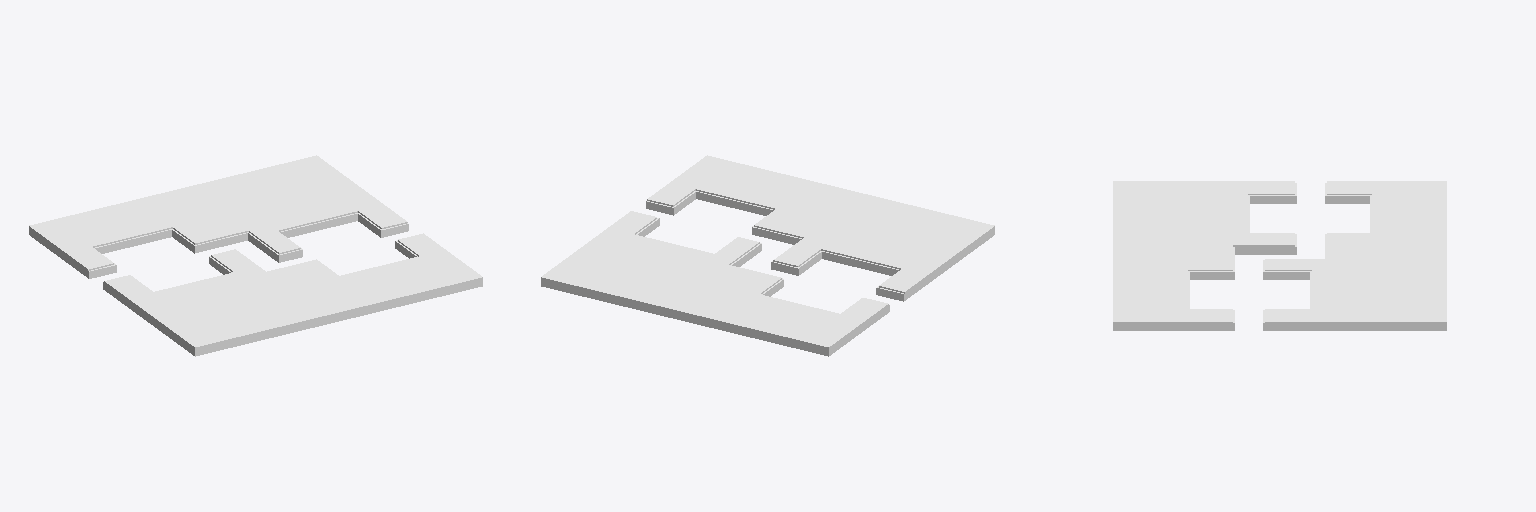
The model's file is stage2-2-0-Stage2-2.obj.
The picture shows the model from 3 angles: view 1: azimuth 30°, elevation 25°; view 2: azimuth 150°, elevation 25°; view 3: azimuth 270°, elevation 25°; orthographic projection.
Visible parts, largest first — view 1: Stage2-2; view 2: Stage2-2; view 3: Stage2-2.
Boxes of the visible parts, x1=… form: Stage2-2: x1=29, y1=155, x2=482, y2=356; Stage2-2: x1=541, y1=155, x2=994, y2=356; Stage2-2: x1=1113, y1=181, x2=1446, y2=330.
Size of the model in its own units: 20 by 0.6 by 20.